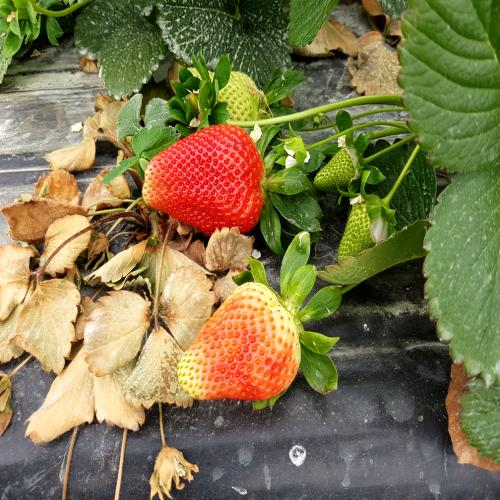partially-ripe: (170, 270, 312, 415)
ripe: (138, 117, 270, 243)
